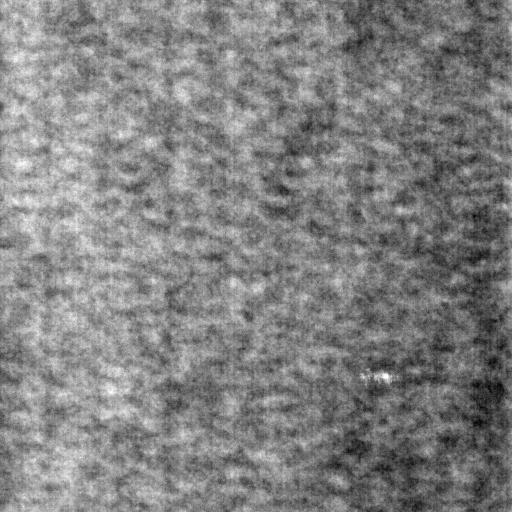DefectTypeA: (361, 367, 402, 388)
